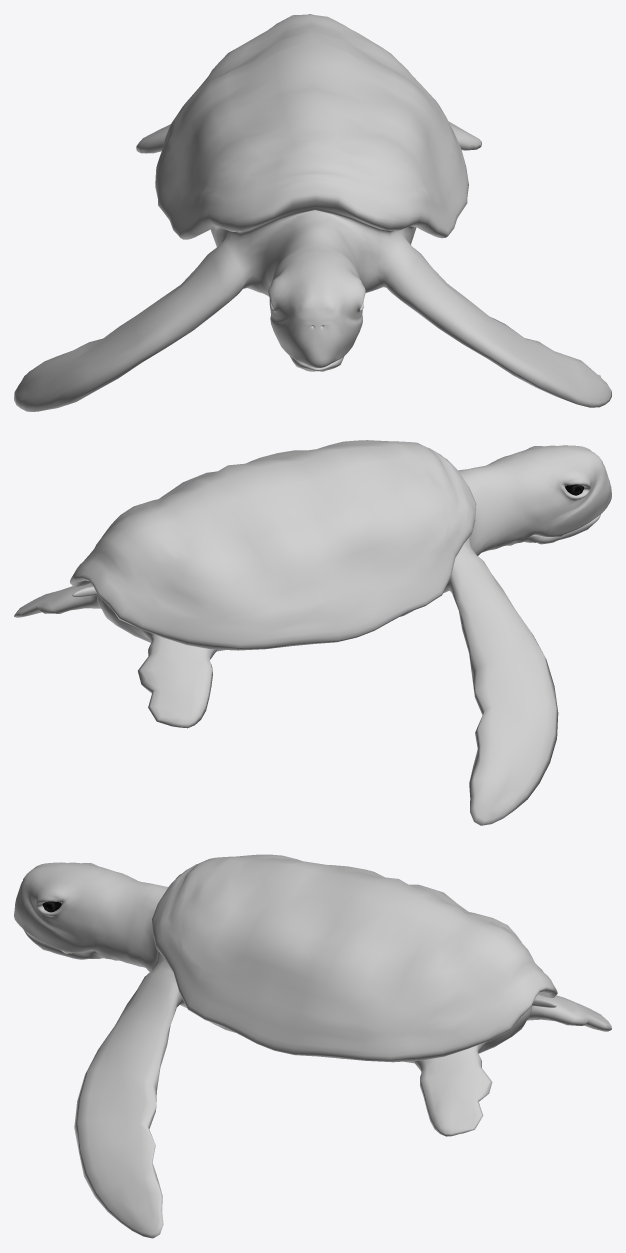
3 views of the same model, one above another, from view 1: azimuth 30°, elevation 25°; view 2: azimuth 150°, elevation 25°; view 3: azimuth 270°, elevation 25° (orthographic). The views are drawn at different scales.
Visible parts, largest first — view 1: turtle; view 2: turtle; view 3: turtle.
Part boxes in pixels (left/top/right/bottom): turtle: left=14, top=14, right=611, bottom=411; turtle: left=14, top=440, right=611, bottom=825; turtle: left=14, top=854, right=611, bottom=1238.
Bounding box in the file's own units: 0.9326 × 0.5328 × 1.04.
